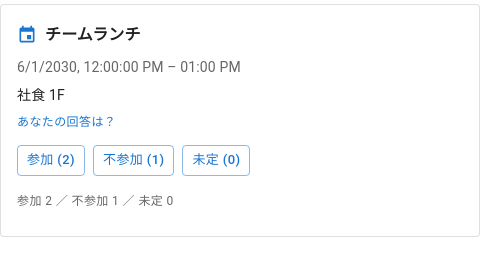
Scenario: EventCard › RSVP 操作 › RSVP 成功後にカウントが更新される
Click the button with aria-label "rsvp-maybe": (216,160) [182,145,250,176]
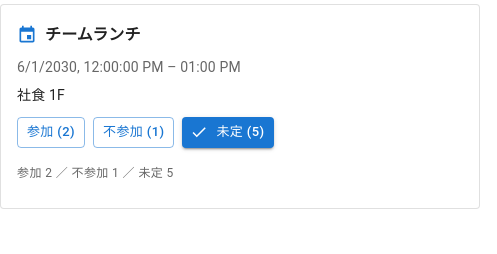
Result: the button with test id "event-summary" reads "参加 2 ／ 不参加 1 ／ 未定 5" at [17,166,174,180]
